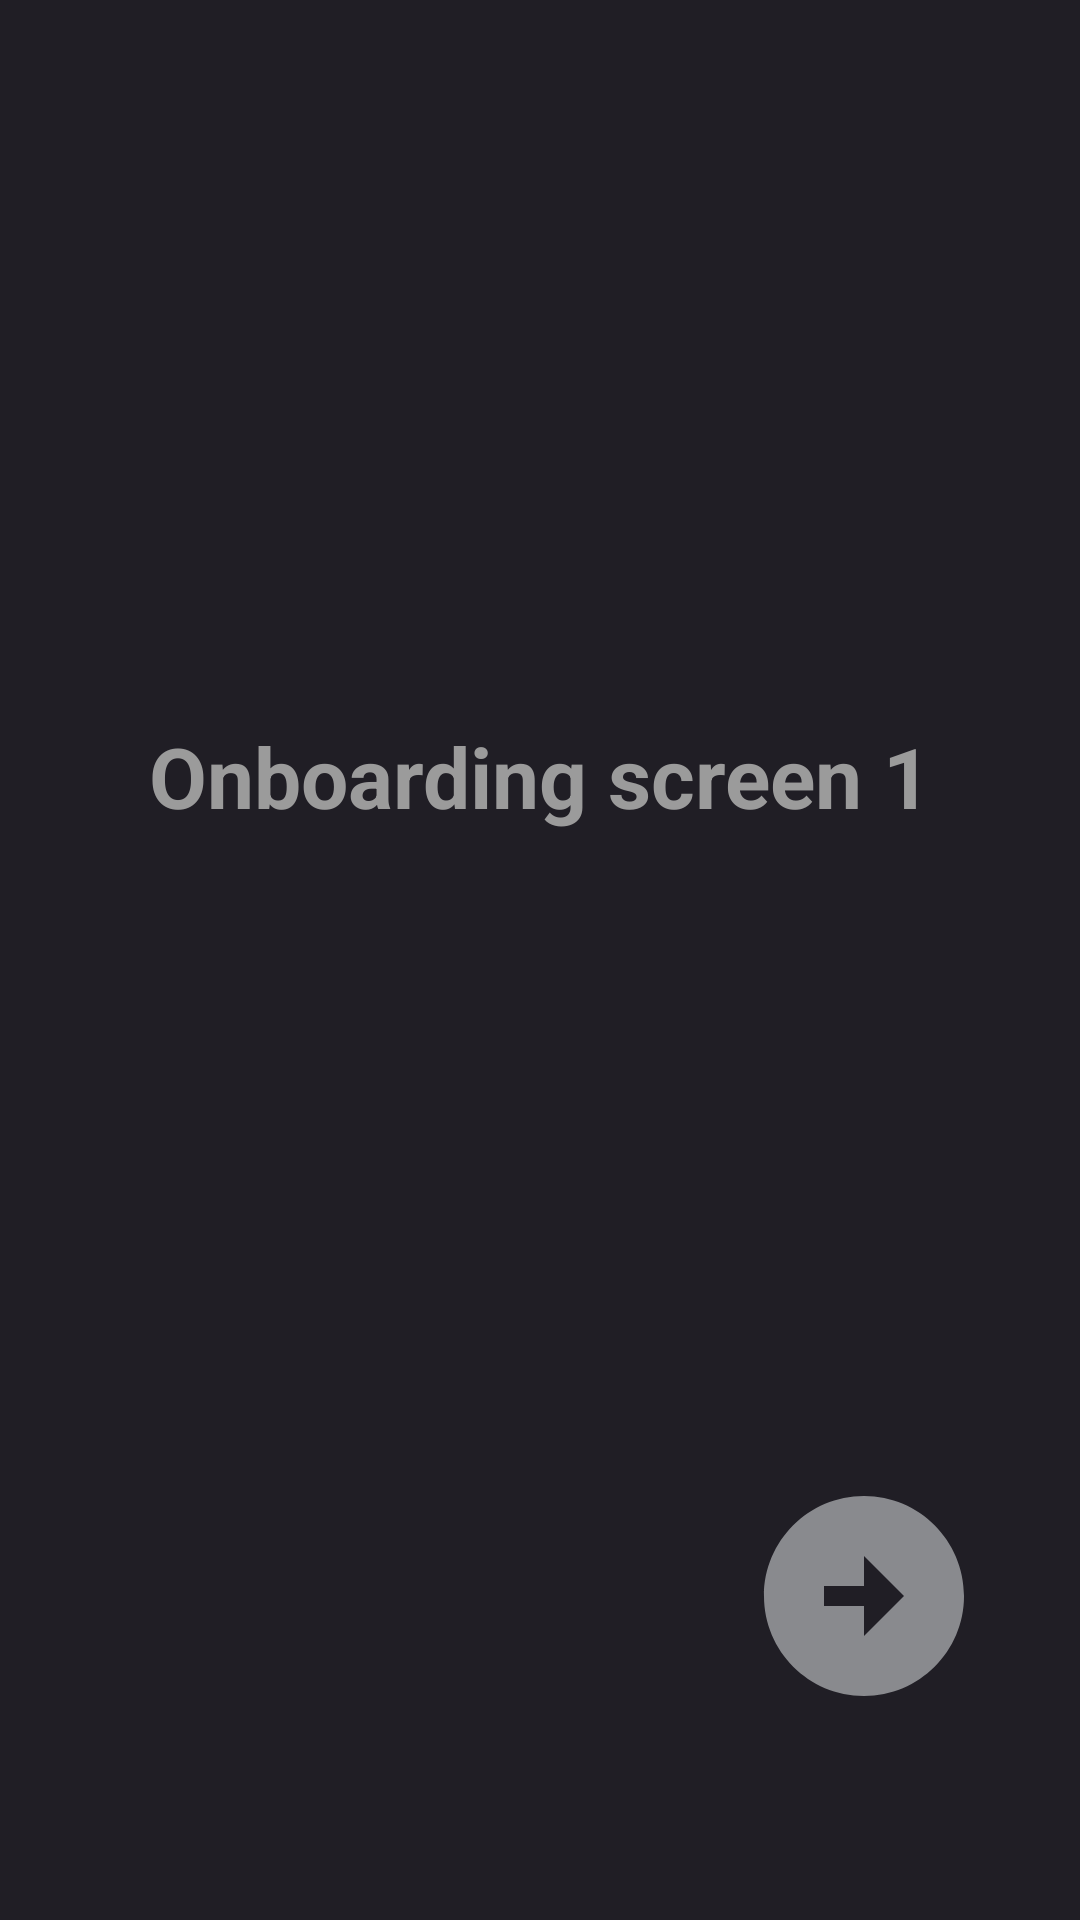

Point at icon controls on the screen. Image size 1080px x 1920px, points as (x=x, y=y).
arrow right: (x=864, y=1596)
